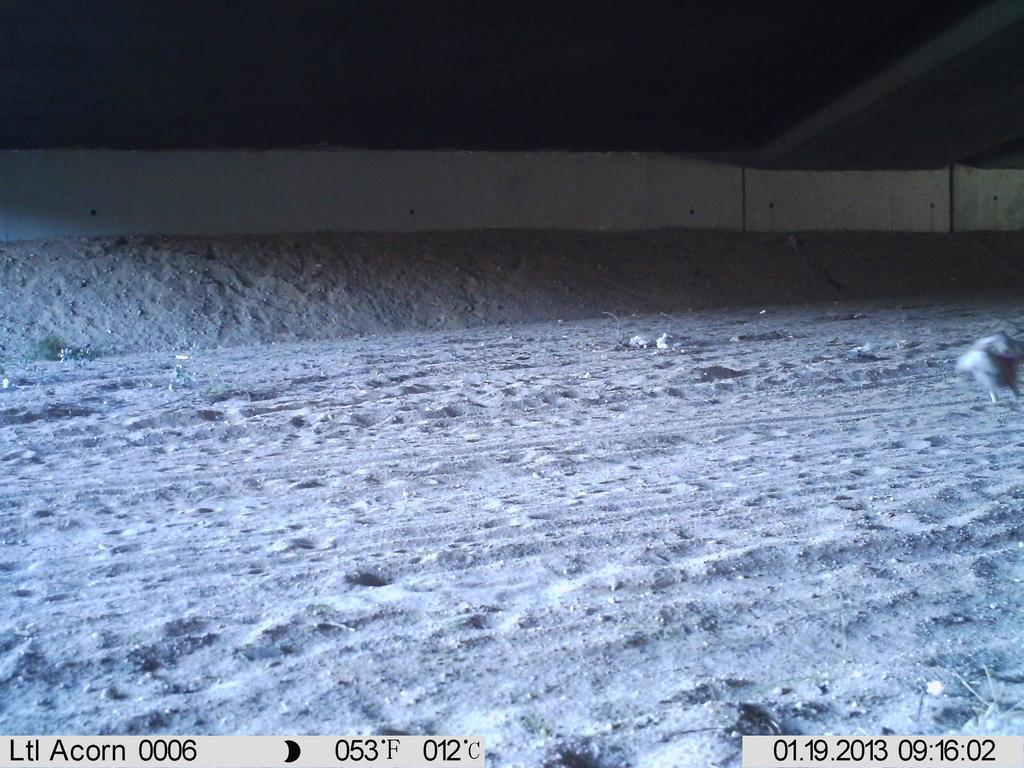dog: (937, 323, 1023, 418)
